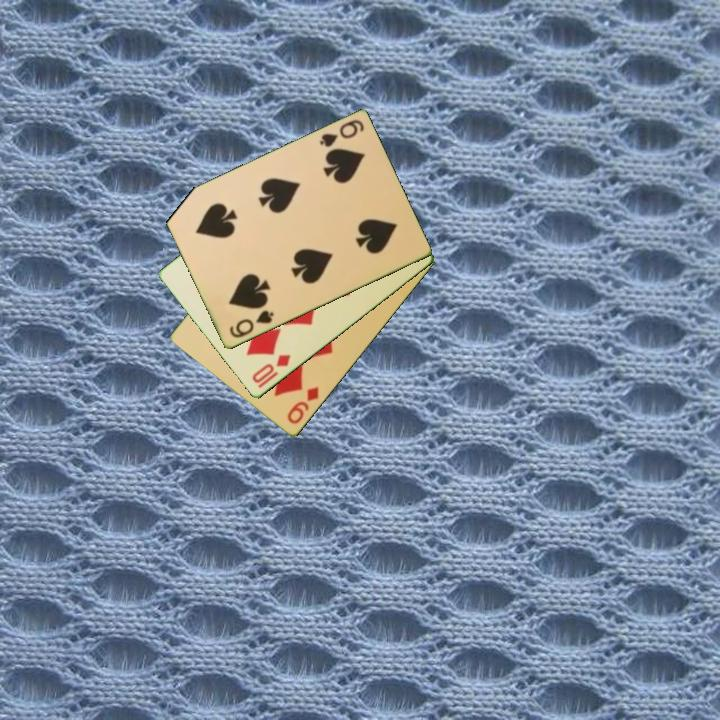10d: (248, 351, 294, 392)
6s: (226, 307, 277, 341), (316, 116, 367, 150)
9d: (284, 384, 322, 427)
